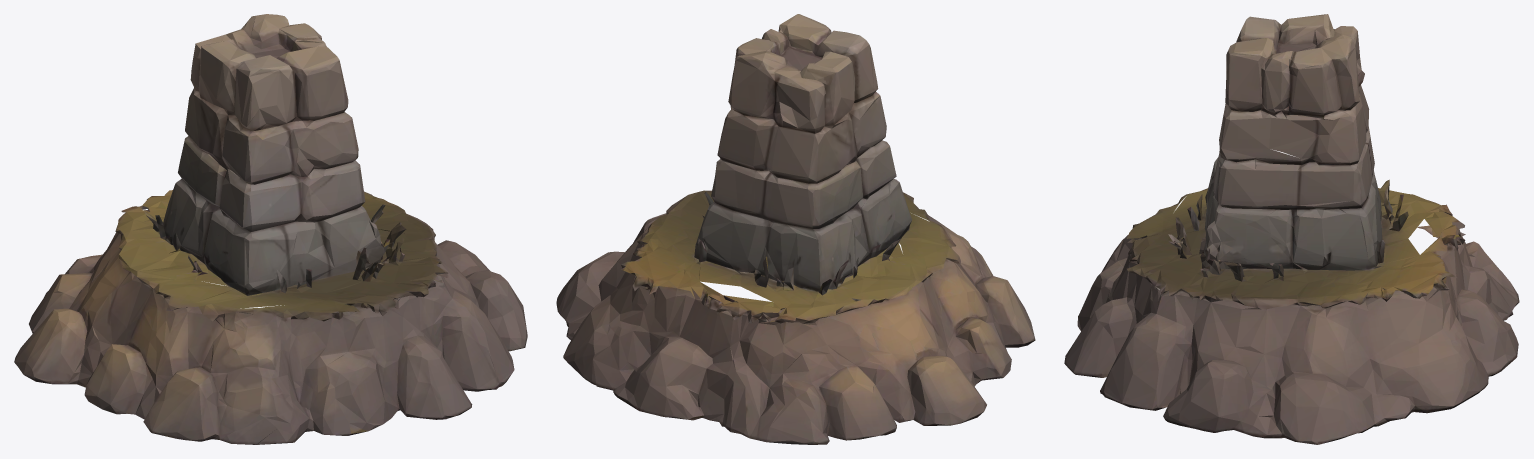
File: beacon.glb
3 renders of one model, left to right at view 1: azimuth 30°, elevation 25°; view 2: azimuth 150°, elevation 25°; view 3: azimuth 270°, elevation 25°, orthographic. The views are drawn at different scales.
Visible parts, largest first — view 1: geometry_0; view 2: geometry_0; view 3: geometry_0.
Part boxes in pixels (left/top/right/bottom): geometry_0: left=14, top=14, right=527, bottom=444; geometry_0: left=556, top=14, right=1035, bottom=444; geometry_0: left=1064, top=14, right=1519, bottom=444.
Size of the model in its own units: 1.4 by 0.9136 by 1.25.
Materials: 1 (1 with a texture image).
